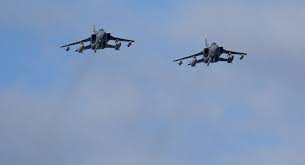fighter: (172, 32, 249, 69), (58, 25, 138, 57)
